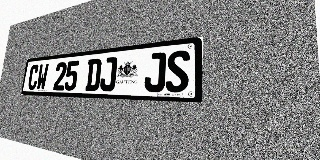2: (53, 62, 67, 90)
5: (64, 60, 79, 91)
C: (27, 64, 39, 90)
D: (85, 58, 102, 91)
J: (144, 52, 166, 92), (99, 57, 118, 91)
S: (165, 50, 190, 93)
W: (36, 63, 49, 90)
